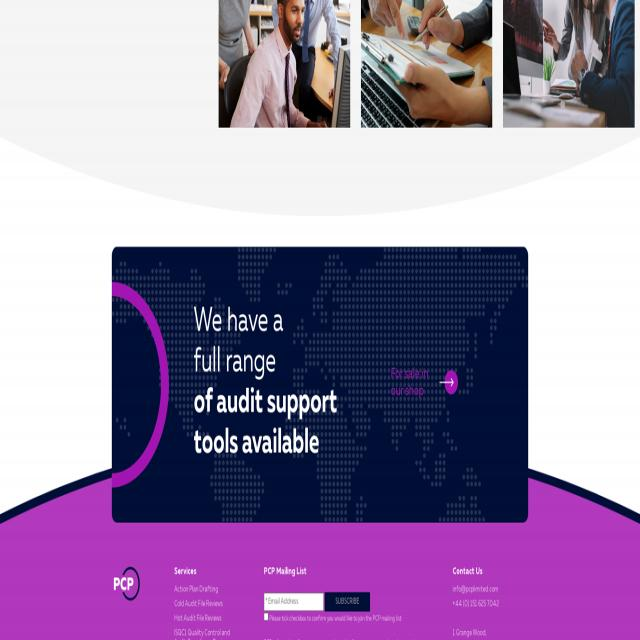button: (219, 0, 351, 127), (112, 282, 168, 488), (391, 366, 479, 400), (112, 566, 148, 601), (324, 592, 370, 612)
field: (264, 593, 324, 611), (264, 613, 268, 621)
